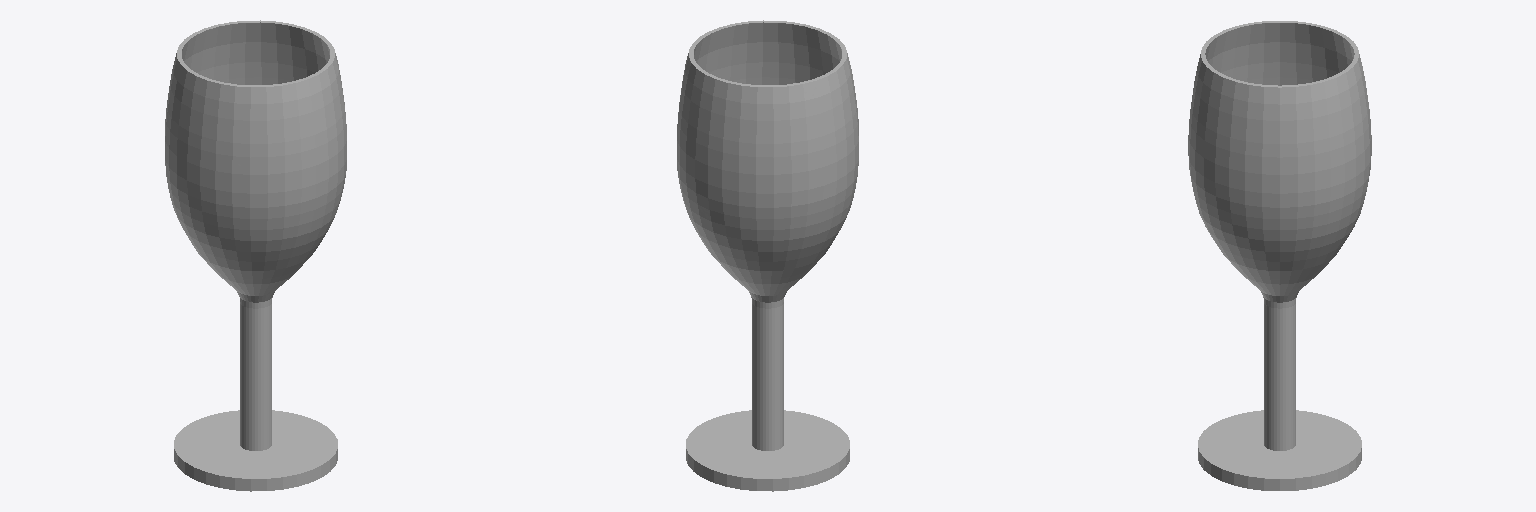
URDF robot description (root):
<robot name="root">
  <link name="link_001">
    <visual>
      <origin xyz="0 0 0" rpy="0 0 0"/>
      <geometry>
        <mesh filename="wineglass.obj" scale="1.0000E+00 1.0000E+00 1.0000E+00"/>
      </geometry>
      <material name="">
        <color rgba="7.50E-01 7.50E-01 7.50E-01 1"/>
      </material>
    </visual>
    <collision>
      <origin xyz="0 0 0" rpy="0 0 0"/>
      <geometry>
        <mesh filename="wineglass.obj" scale="1.0000E+00 1.0000E+00 1.0000E+00"/>
      </geometry>
    </collision>
    <inertial>
      <mass value="0.16"/> <!-- 质量：0.1kg -->
    </inertial>
  </link>
</robot>

--- Facts derived from the render (not from the file) ---
The picture shows the robot from 3 angles, left to right: view 1: azimuth 30°, elevation 25°; view 2: azimuth 150°, elevation 25°; view 3: azimuth 270°, elevation 25°; orthographic projection.
Model root with 1 links and 0 joints (none), rooted at link_001, posed every joint at zero.
Links seen in each view (by area): view 1: link_001; view 2: link_001; view 3: link_001.
Link boxes in pixels (x1,y1,x2,y2): link_001: (165,20,346,491); link_001: (677,20,858,491); link_001: (1188,21,1371,490).
Size in the robot's own frame: 0.0709 by 0.0709 by 0.172 metres.
1 mesh visuals loaded from 1 distinct referenced files (1 OBJ).
